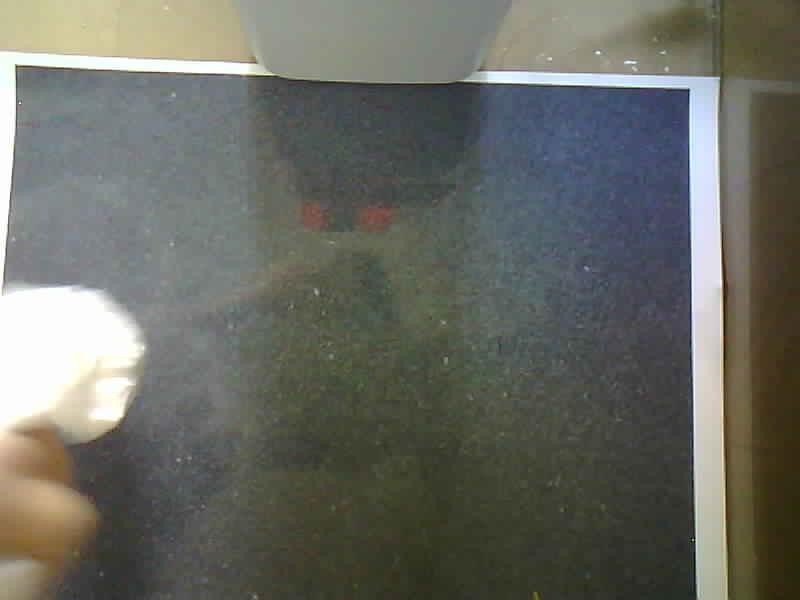paper: (0, 286, 145, 444)
